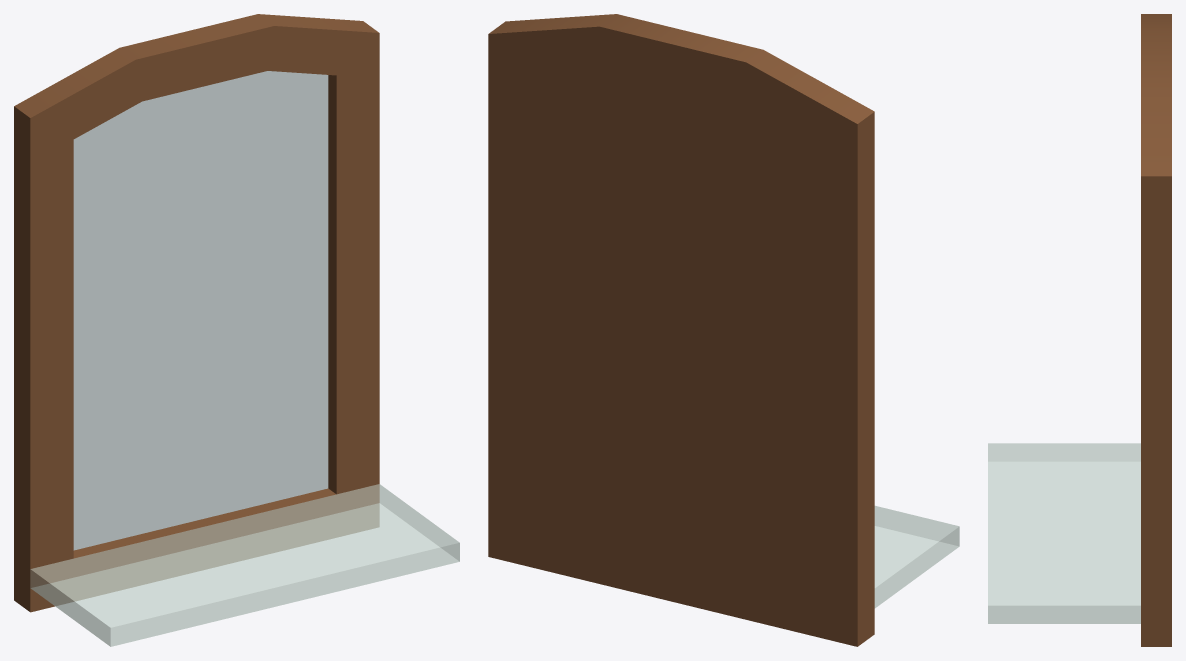
The model's file is m_mirror.glb.
The picture shows the model from 3 angles, left to right: view 1: azimuth 30°, elevation 25°; view 2: azimuth 150°, elevation 25°; view 3: azimuth 270°, elevation 25°; orthographic projection. The views are drawn at different scales.
Parts seen in each view (by area): view 1: bathroomMirror(Clone); view 2: bathroomMirror(Clone); view 3: bathroomMirror(Clone).
Boxes of the visible parts, x1,y1,x2,y2 form: bathroomMirror(Clone): (14, 14, 459, 646); bathroomMirror(Clone): (488, 14, 959, 646); bathroomMirror(Clone): (988, 14, 1171, 646).
Bounding box in the file's own units: 0.5547 × 0.8 × 0.2658.
